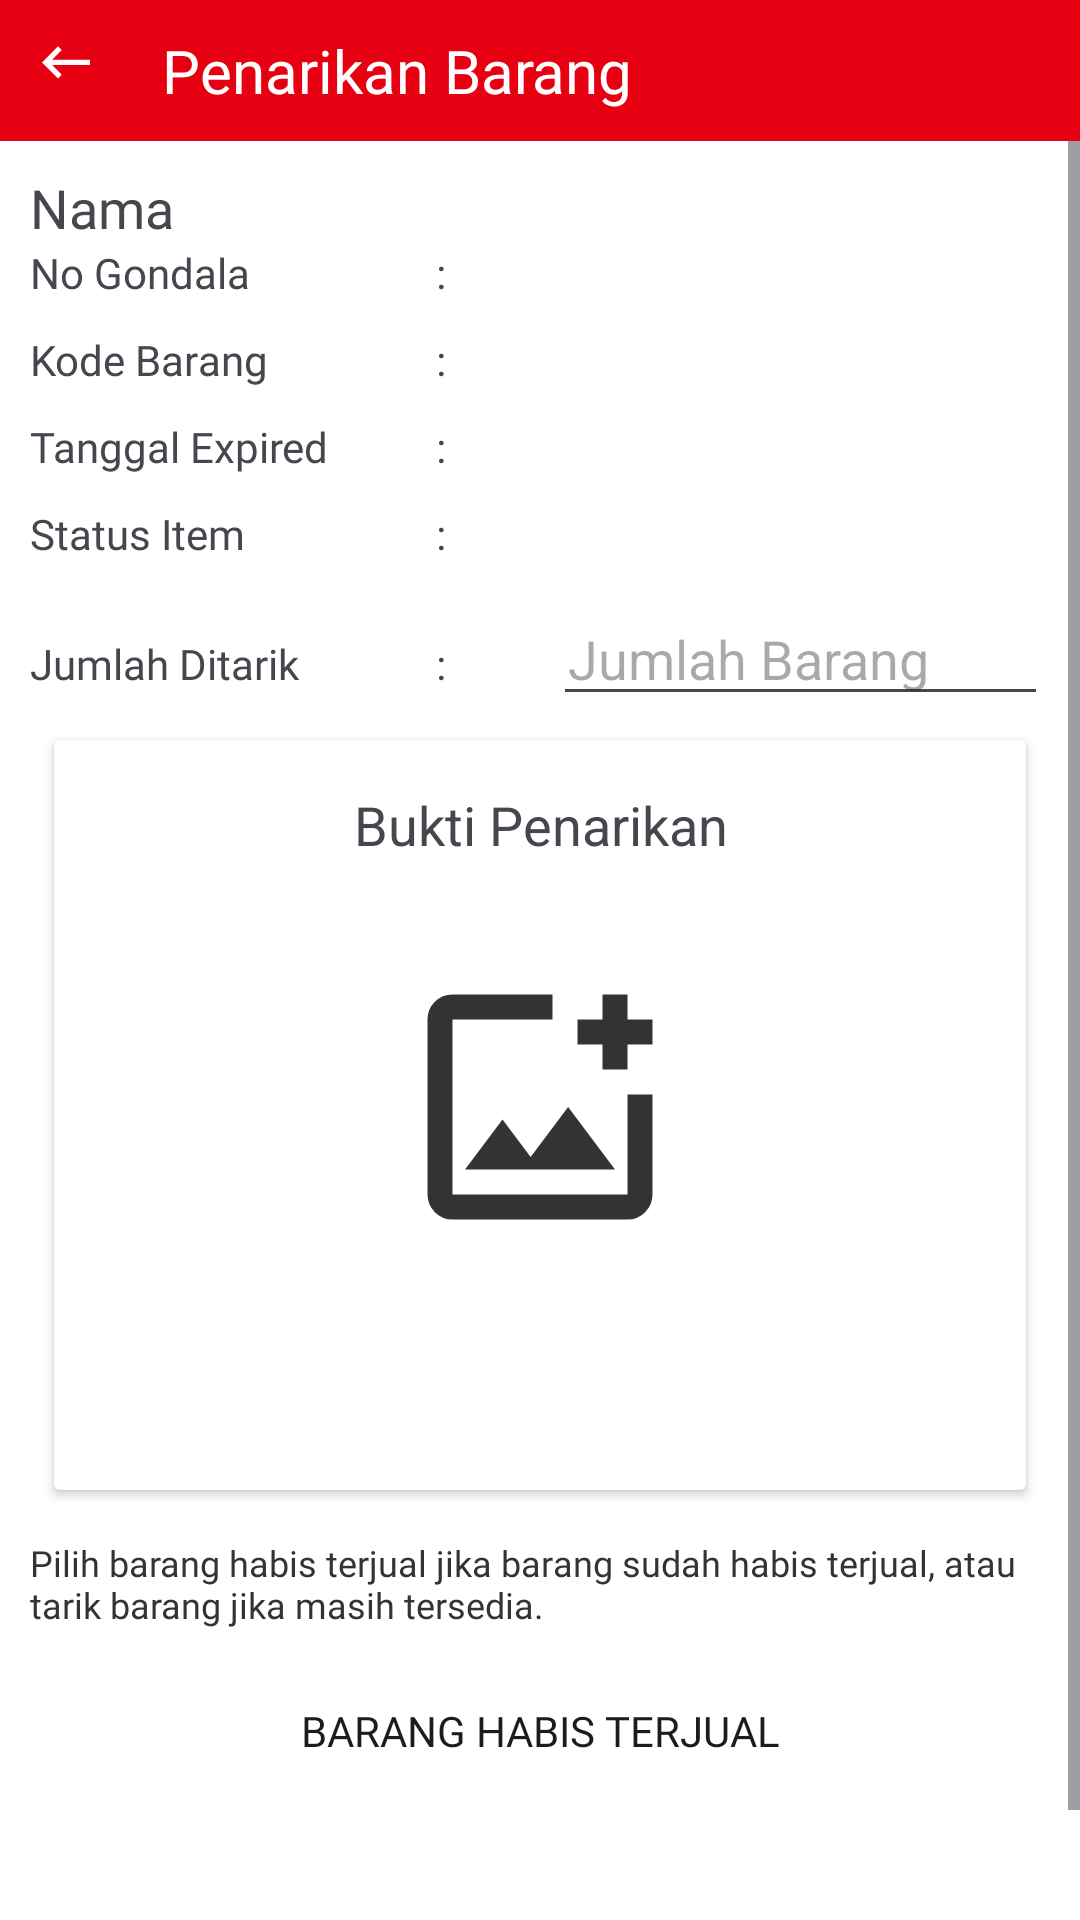

Point at icon controls on the screen. Image size 1080 x 1920, points as (x,y).
add photo alternate: (540,1107)
kembali: (66,62)
